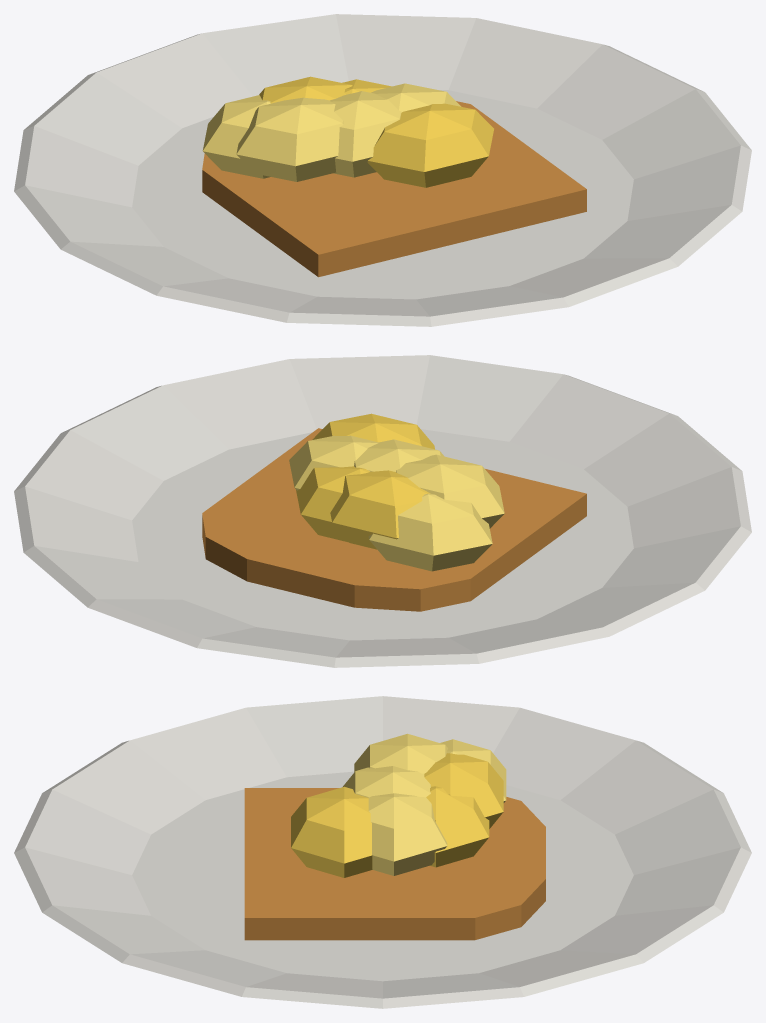
Rendered from m-scrambled.glb.
3 views of the same model, one above another, from view 1: azimuth 30°, elevation 25°; view 2: azimuth 150°, elevation 25°; view 3: azimuth 270°, elevation 25° (orthographic).
Visible parts, largest first — view 1: m_scrambled; view 2: m_scrambled; view 3: m_scrambled.
Part boxes in pixels (box(x1,y1,x2,y2)): m_scrambled: box(14, 14, 751, 326); m_scrambled: box(14, 355, 751, 667); m_scrambled: box(14, 696, 751, 1008).
Bounding box in the file's own units: 0.24 × 0.0463 × 0.24.
